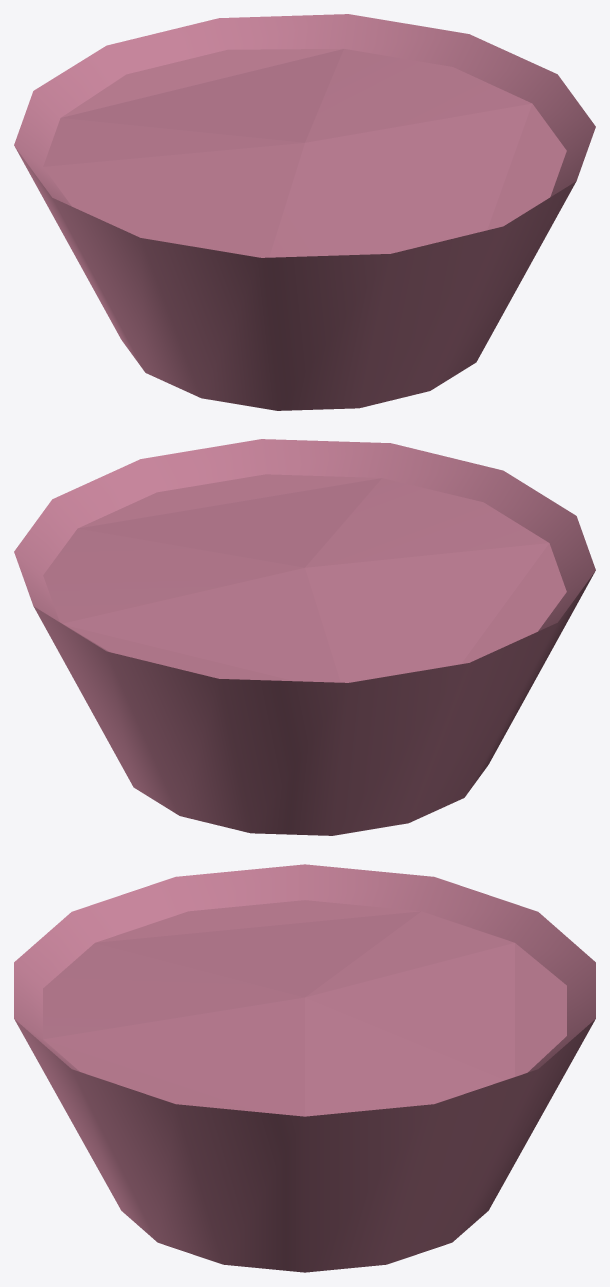
The model's file is small_flower_bed.fbx.
3 renders of one model, top to bottom at view 1: azimuth 30°, elevation 25°; view 2: azimuth 150°, elevation 25°; view 3: azimuth 270°, elevation 25°, orthographic. The views are drawn at different scales.
Visible parts, largest first — view 1: small_flower_bed; view 2: small_flower_bed; view 3: small_flower_bed.
Boxes of the visible parts, x1,y1,x2,y2 form: small_flower_bed: (14,14,595,410); small_flower_bed: (14,439,595,835); small_flower_bed: (14,864,595,1272).
Size of the model in its own units: 0.1023 by 0.0383 by 0.0998.
